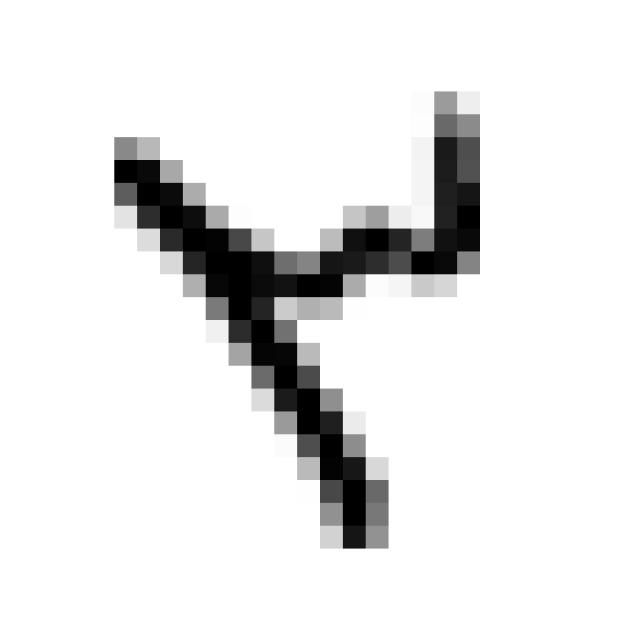3 -three-: (89, 78, 496, 566)
